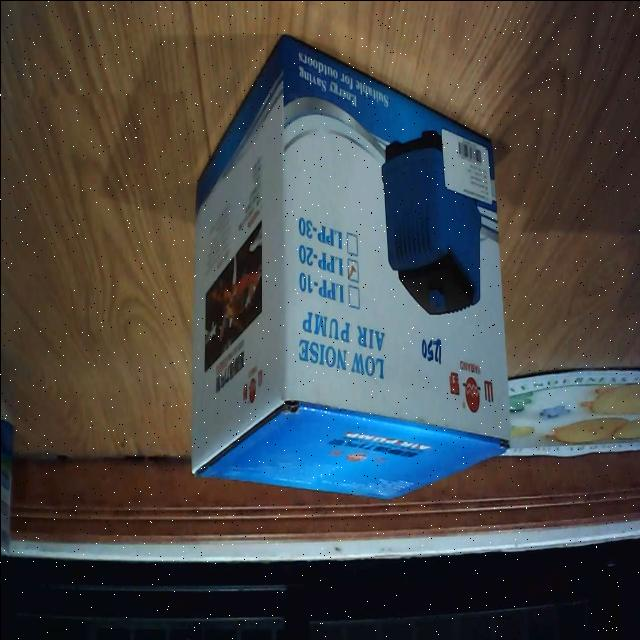YAMANO_LPP_20: (185, 29, 512, 522)
